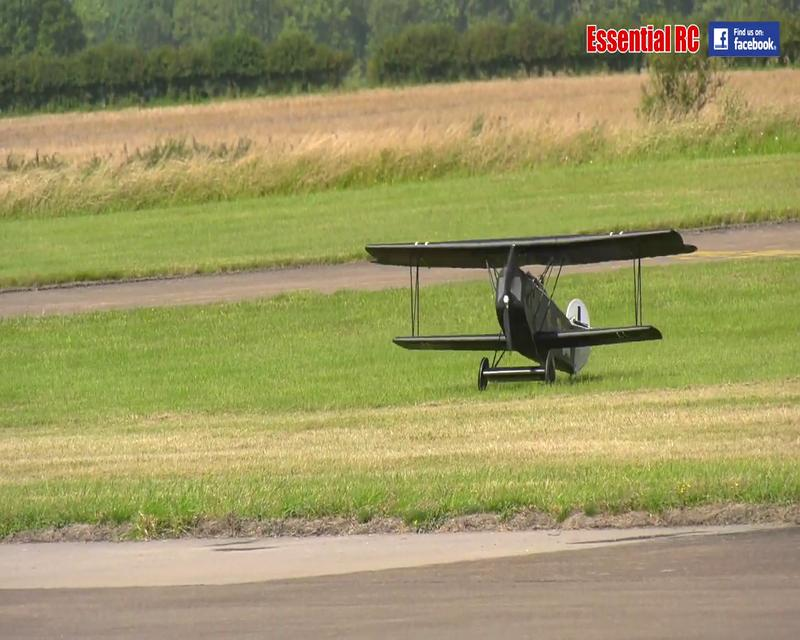UAV: (364, 224, 700, 396)
